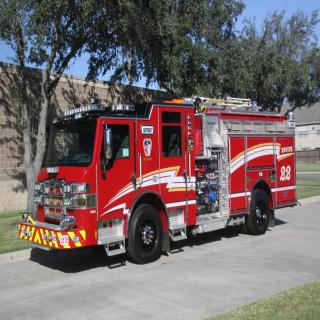Fire_truck: (19, 94, 301, 265)
